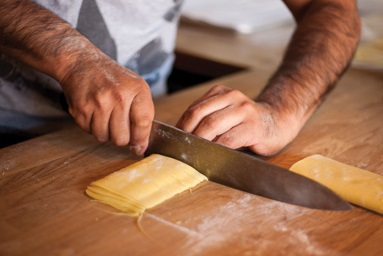knife: (73, 107, 361, 216)
